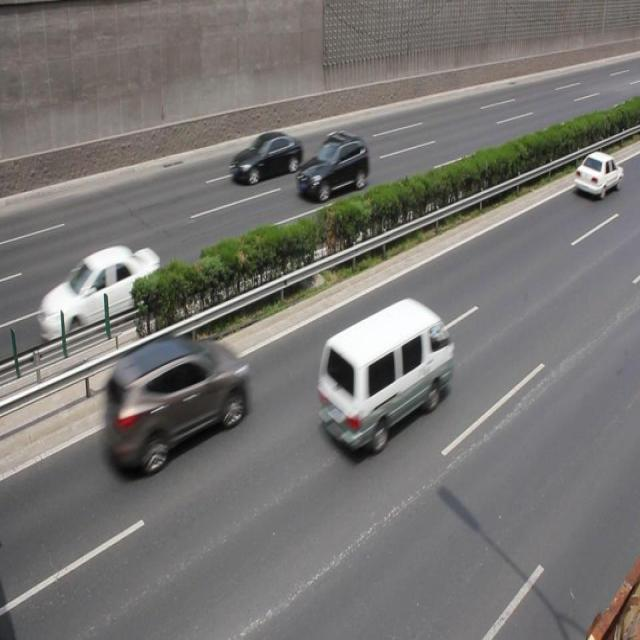car: (98, 337, 247, 475), (40, 244, 162, 352), (294, 129, 367, 202), (228, 131, 303, 184), (571, 150, 620, 200)
truck: (314, 296, 450, 454)
